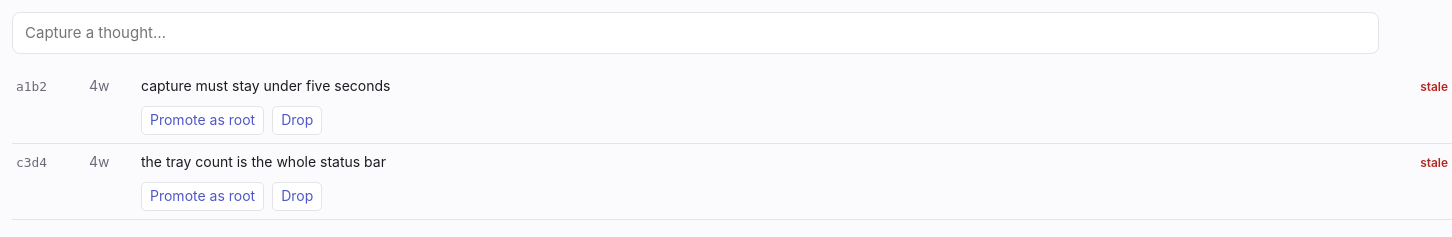
InboxView › a settle whose commit was refused refreshes the list and warns instead of offering a retry
Expected: the text "a1b2" is shown, [16, 79, 47, 94]
Click the button "Drop" below "a1b2" at (297, 121), box [272, 106, 322, 135]
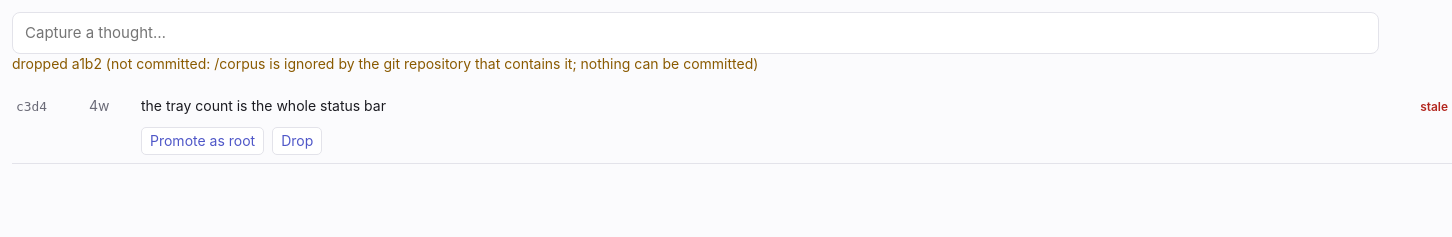
Now the number of list items is 1, box [12, 88, 1451, 164]
Now the text "dropped a1b2 (not committed:" shows "dropped a1b2 (not committed: /corpus is ignored by the git repository that contains it; nothing can be committed)", box [12, 55, 758, 72]
